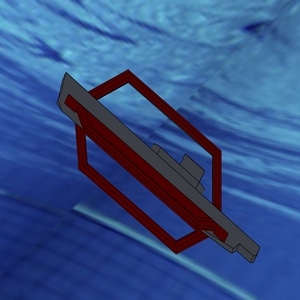submarine: (47, 38, 275, 290)
